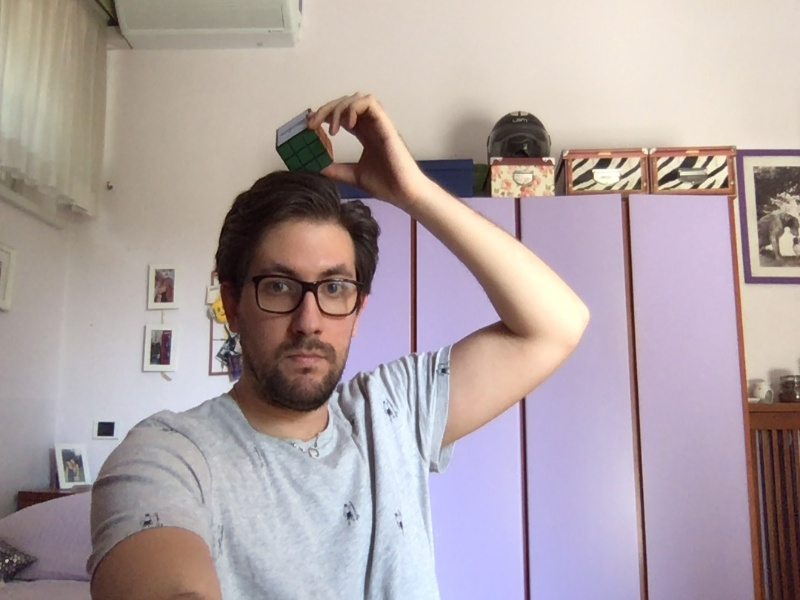rubik: (275, 109, 334, 172)
